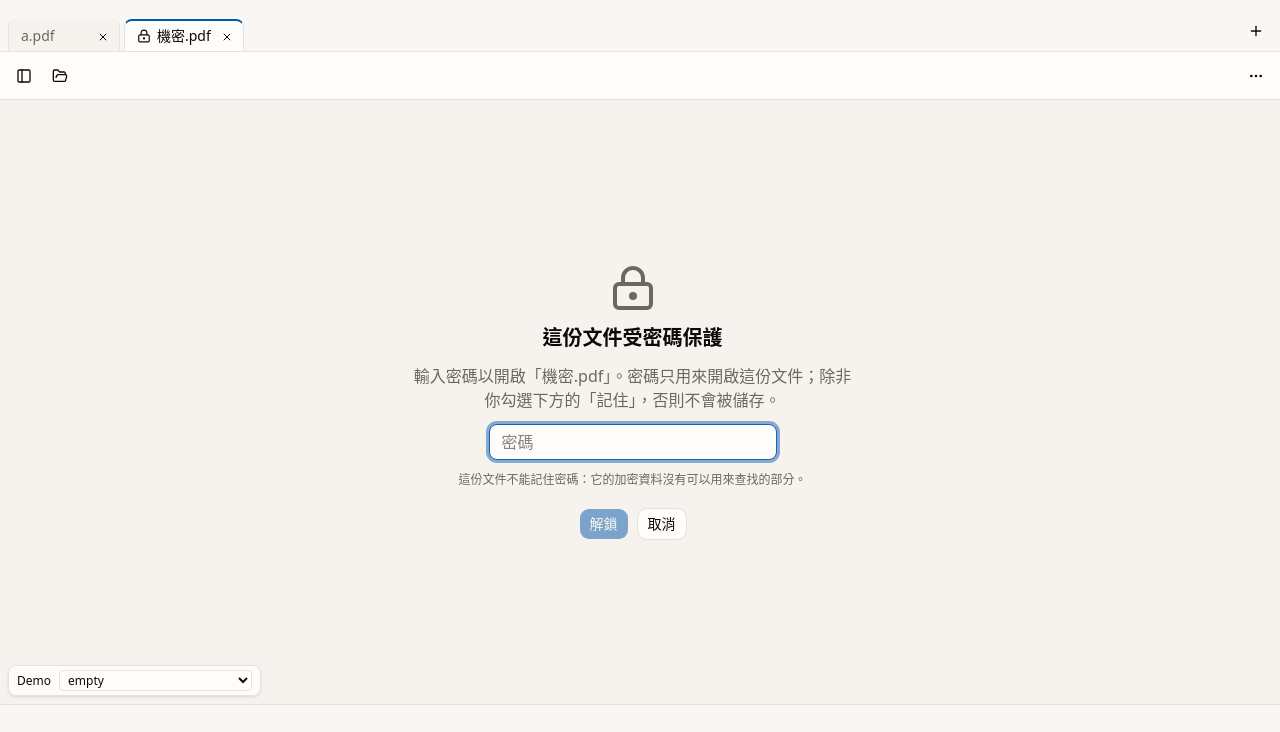
App › asks for an encrypted file's password in its tab and passes it on
The image size is (1280, 732).
Type "user" into the password field labelled "密碼" at (632, 442), box [488,424,776,460]
Then press Enter
# Cancelling closes the tab and shows the other one.
Click the button "取消" at (662, 524), box [636,508,686,540]
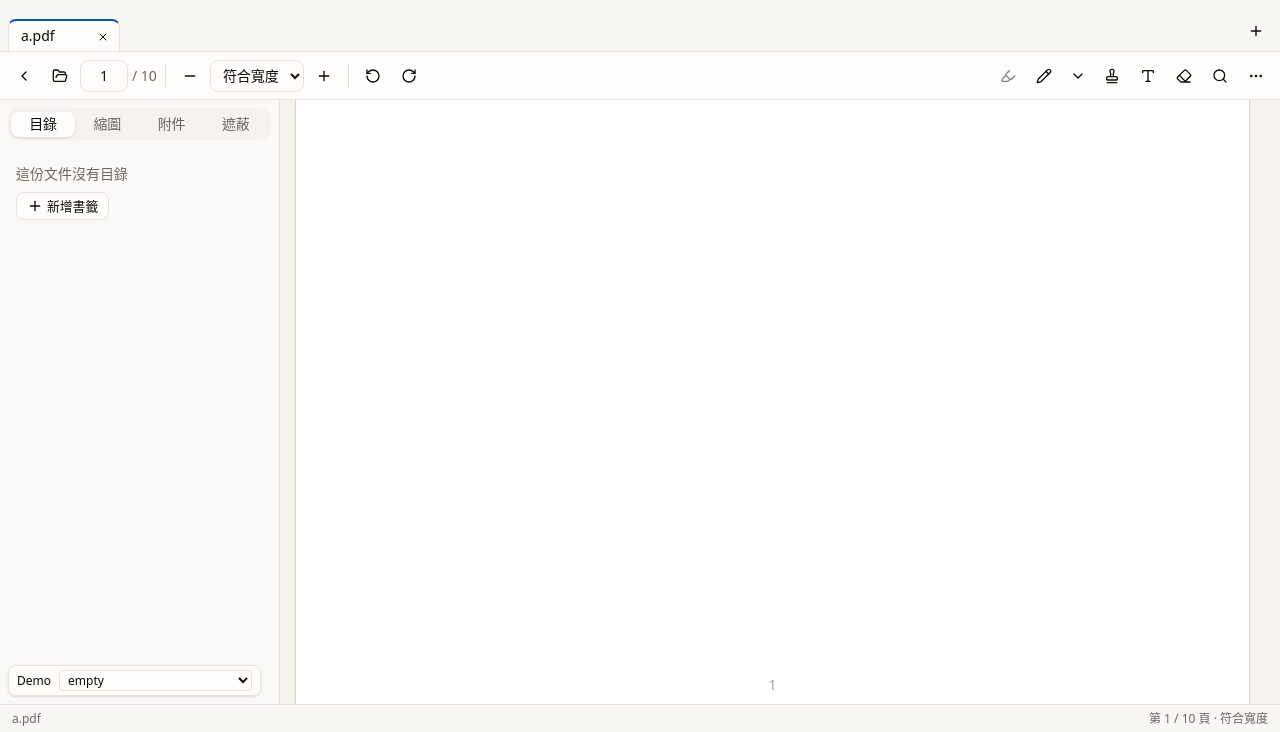
Expected: the footer shows "a.pdf", [12,710,41,726]
